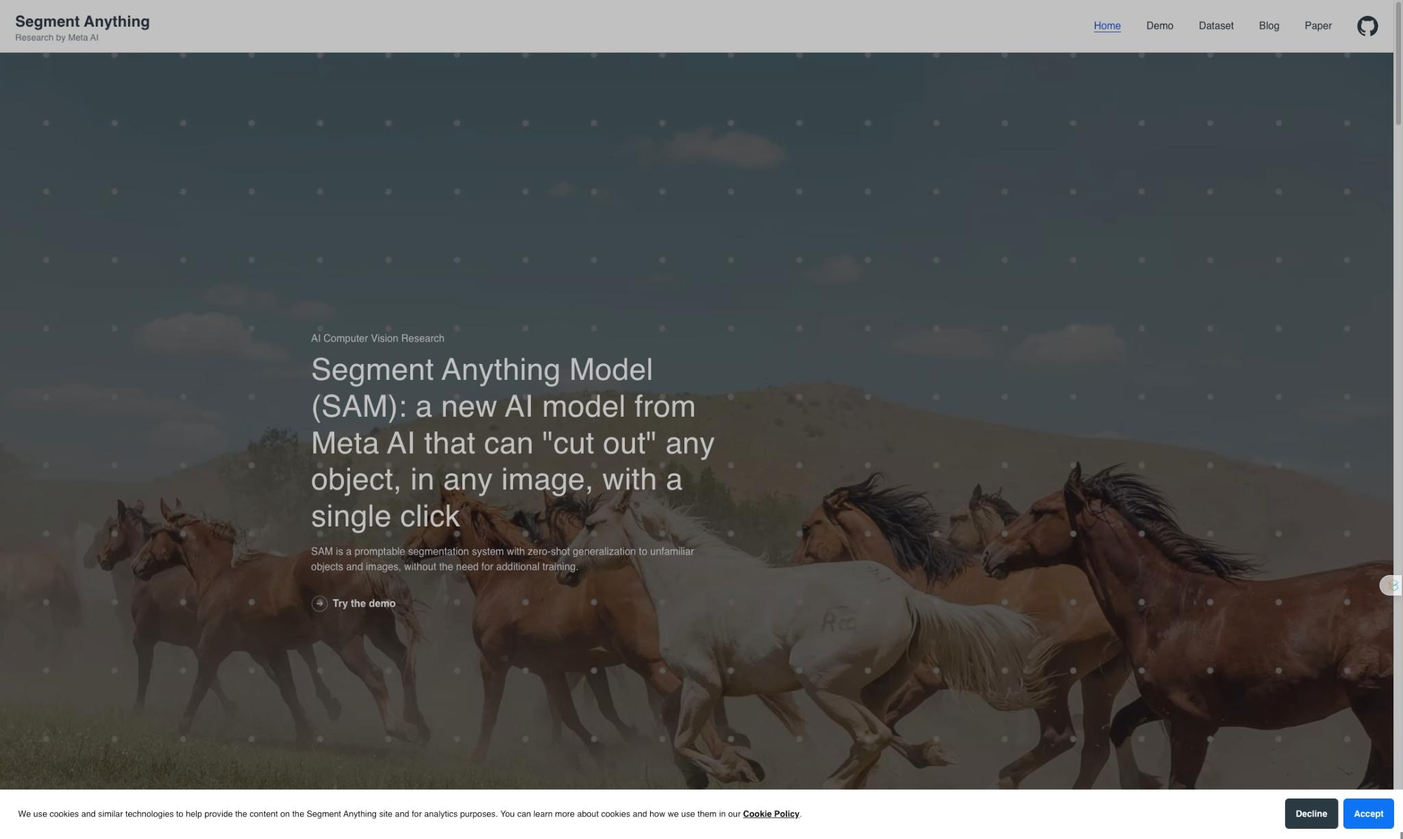webelement: (311, 352, 715, 532), (14, 12, 149, 44), (311, 589, 396, 617), (1285, 799, 1338, 829), (1343, 799, 1394, 829), (1198, 7, 1232, 44), (332, 595, 395, 612), (1304, 7, 1331, 44), (1094, 7, 1120, 44), (1146, 7, 1172, 44), (1259, 7, 1279, 44), (742, 809, 798, 818)
